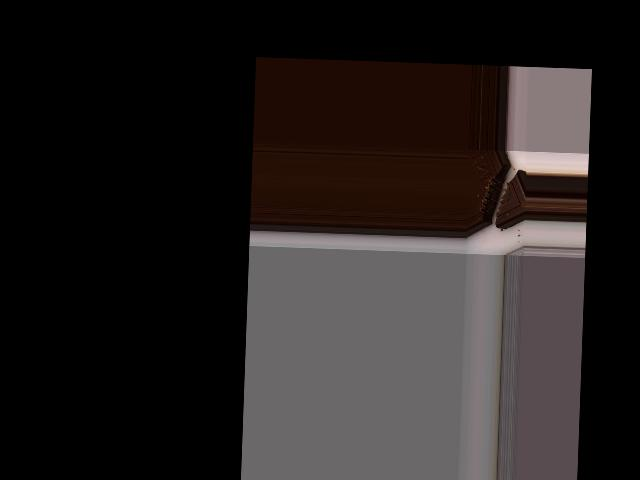chocolate: (467, 150, 527, 241)
